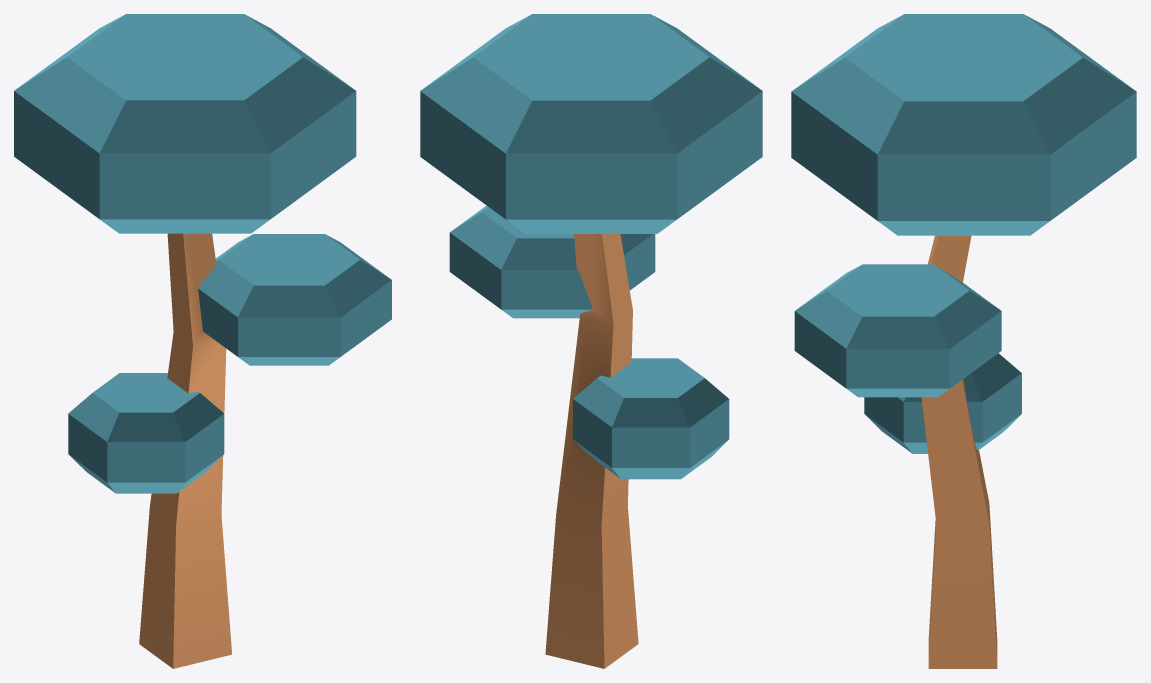
The model's file is tree_plateau_dark.obj.
3 renders of one model, left to right at view 1: azimuth 30°, elevation 25°; view 2: azimuth 150°, elevation 25°; view 3: azimuth 270°, elevation 25°, orthographic.
Parts seen in each view (by area): view 1: tree_plateau_dark; view 2: tree_plateau_dark; view 3: tree_plateau_dark.
Part boxes in pixels (box(x1,y1,x2,y2)): tree_plateau_dark: box(14, 14, 391, 668); tree_plateau_dark: box(420, 14, 762, 668); tree_plateau_dark: box(791, 14, 1136, 668).
Bounding box in the file's own units: 6.12 × 12.49 × 6.55.
